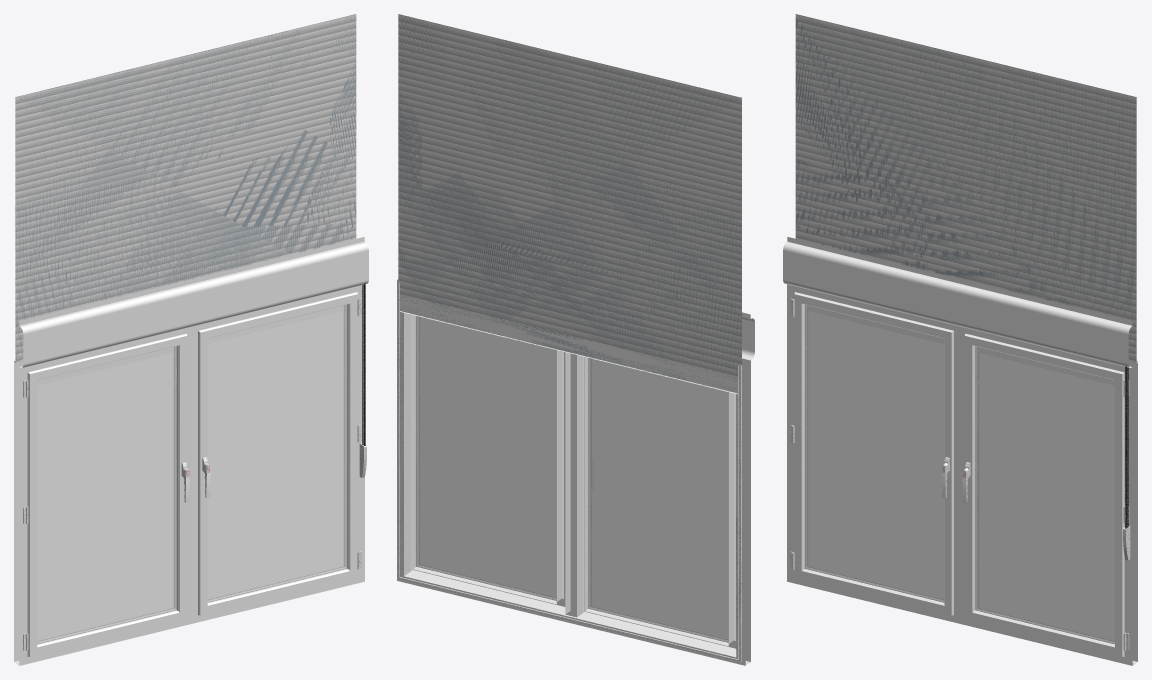
The model's file is Window1_os_150x143x[2 casement_blinds].dae.
3 views of the same model, side by side, from view 1: azimuth 30°, elevation 25°; view 2: azimuth 150°, elevation 25°; view 3: azimuth 330°, elevation 25° (orthographic).
Visible parts, largest first — view 1: group_3, group_17 (×2), group_26 (×2), group_5, group_18, group_16 (×3), group_25 (×2), group_4; view 2: group_3 (×2), group_26 (×2), group_17 (×2), group_4 (×3), group_16 (×4), group_25 (×4), group_18 (×3), group_5; view 3: group_3, group_17 (×2), group_26 (×2), group_5, group_18, group_25 (×3), group_16 (×3), group_4.
Part boxes in pixels (x1,y1,x2,y2): group_3: (15, 14, 356, 362); group_17 (×2): (207, 304, 347, 602); group_26 (×2): (37, 346, 176, 644); group_5: (19, 237, 368, 367); group_18: (19, 285, 364, 665); group_16 (×3): (198, 292, 357, 615); group_25 (×2): (27, 333, 186, 656); group_4: (14, 361, 23, 661); group_3 (×2): (398, 14, 741, 394); group_26 (×2): (588, 358, 728, 642); group_17 (×2): (416, 316, 556, 600); group_4 (×3): (397, 279, 745, 665); group_16 (×4): (406, 314, 570, 613); group_25 (×4): (577, 355, 736, 655); group_18 (×3): (405, 313, 750, 661); group_5: (742, 312, 754, 359); group_3: (795, 14, 1136, 362); group_17 (×2): (975, 346, 1114, 644); group_26 (×2): (805, 304, 944, 602); group_5: (783, 237, 1132, 367); group_18: (787, 284, 1132, 665); group_25 (×3): (794, 292, 953, 615); group_16 (×3): (965, 333, 1124, 656); group_4: (1128, 361, 1137, 661).
Bounding box in the file's own units: 59.06 × 4.17 × 92.05.
12 materials, 1 textured.
